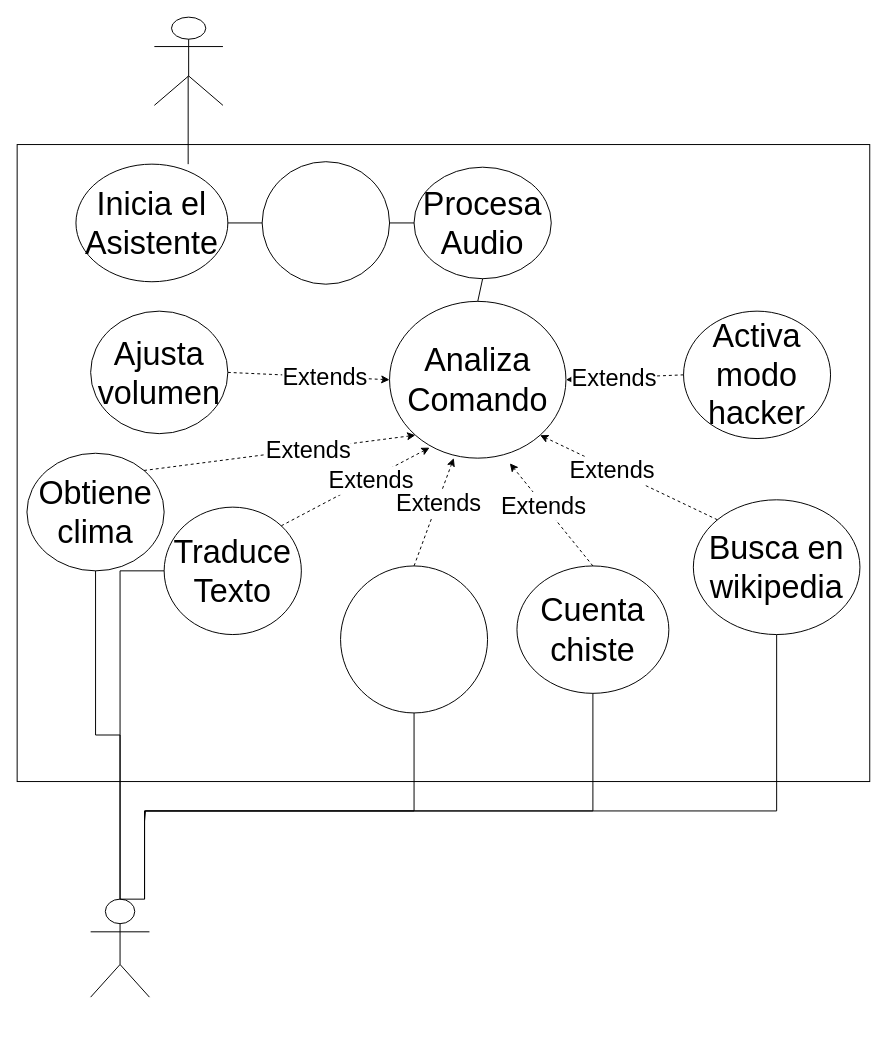
Image size: 887x1060. Some labels were removed from this diagram. The centre of each missing label's shape, as x and y in pixels:
API externa: (x=119, y=947)
Busca en youtube: (x=414, y=639)
Graba Audio: (x=325, y=222)
Usuario: (x=188, y=60)
